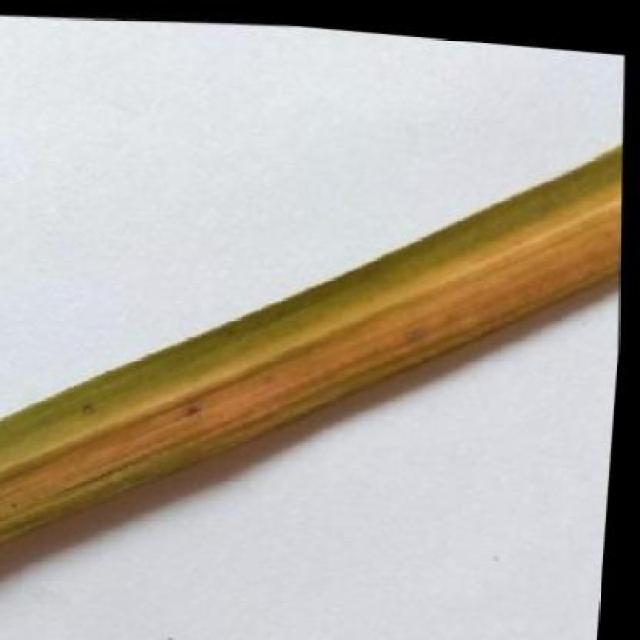Rice False Smut: (0, 127, 614, 627)
